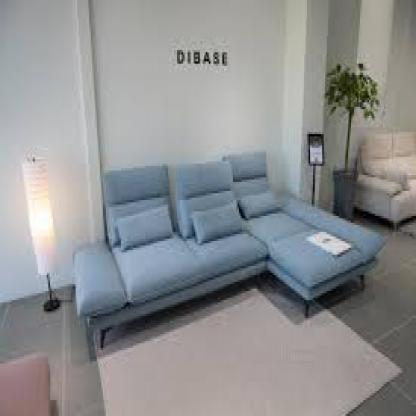sofa: (76, 148, 375, 332)
